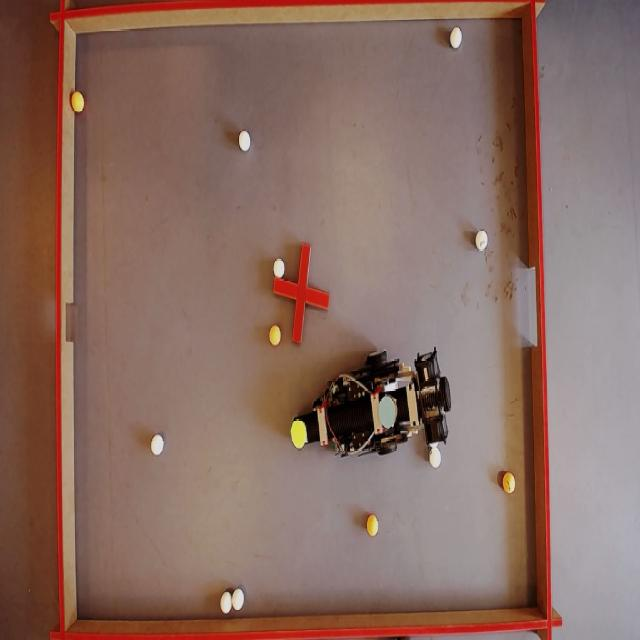orange: (366, 514, 381, 536), (267, 326, 280, 346), (504, 473, 516, 494), (73, 93, 85, 112)
robot: (292, 353, 458, 462)
robot-front: (292, 417, 306, 451)
robot-rear: (375, 391, 396, 428)
white: (237, 130, 251, 152), (152, 434, 165, 456), (450, 26, 463, 48), (233, 587, 245, 610), (273, 257, 285, 279), (221, 591, 233, 613), (476, 230, 488, 250), (430, 448, 442, 468)
